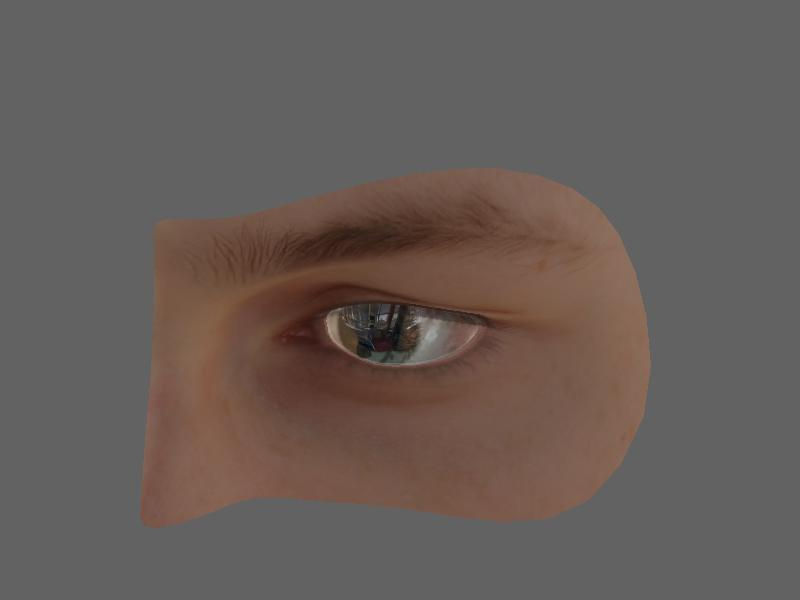iris: (338, 295, 425, 371)
